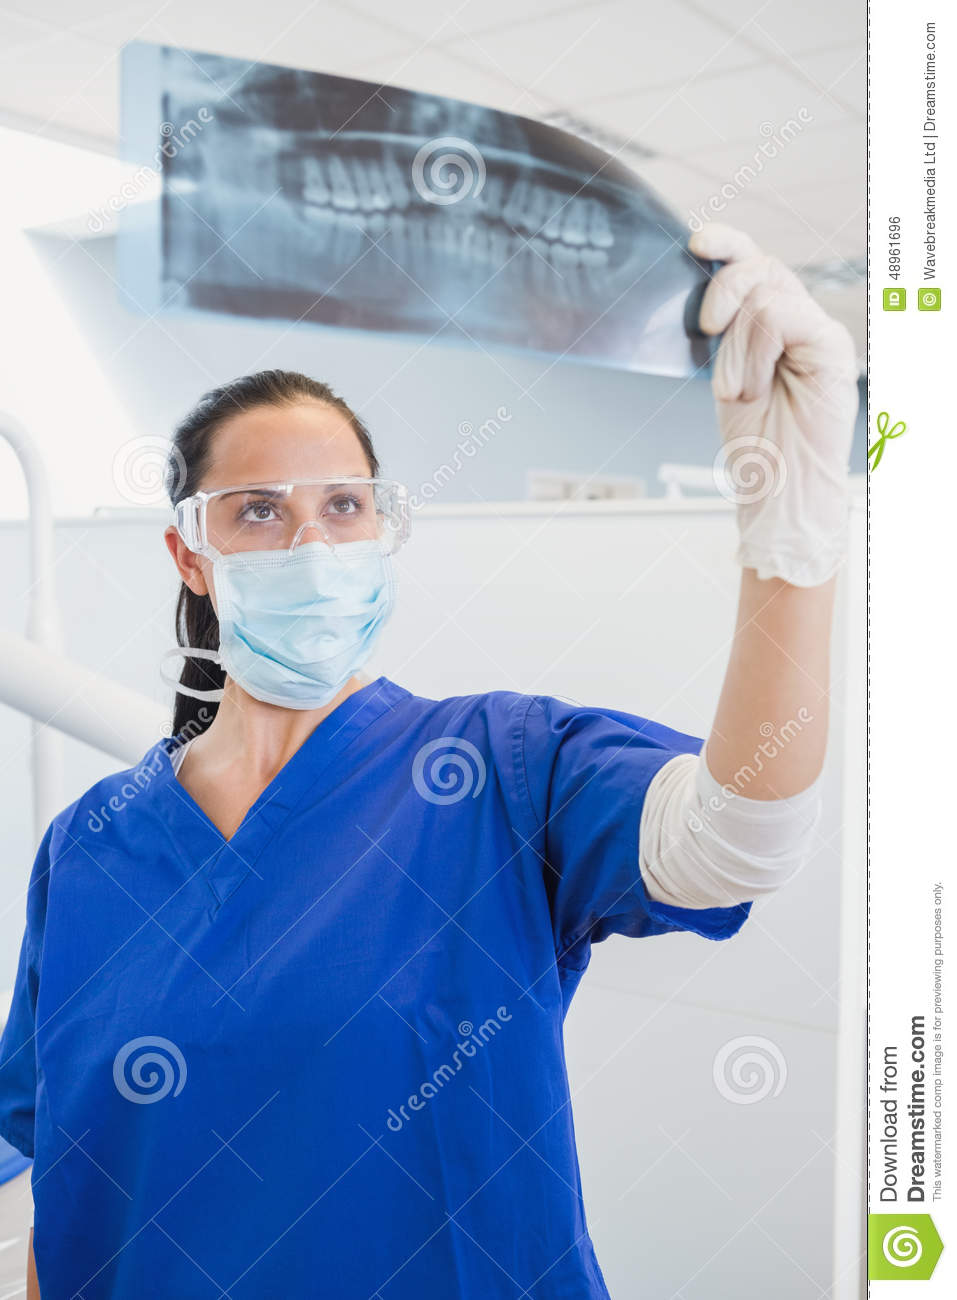mask: (198, 529, 414, 709)
